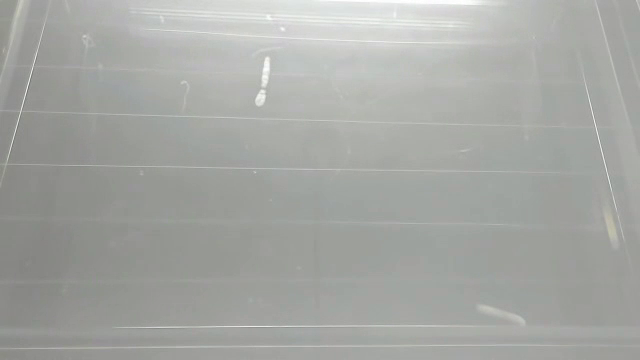alpha: (473, 300, 533, 329), (252, 53, 271, 109)
